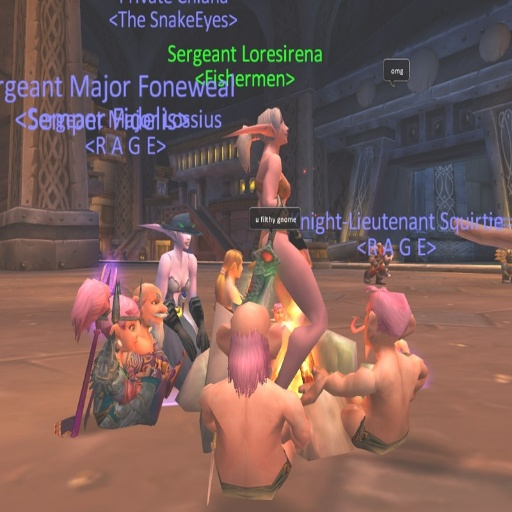hand: (367, 349, 421, 425), (297, 364, 329, 395), (179, 327, 198, 361), (142, 351, 158, 374), (154, 349, 167, 374), (196, 328, 210, 351), (394, 336, 411, 351)
